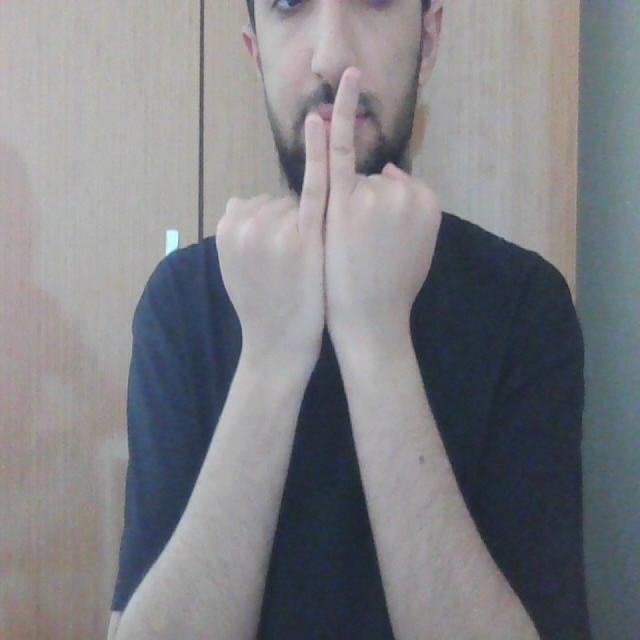Kardes: (211, 63, 450, 351)
